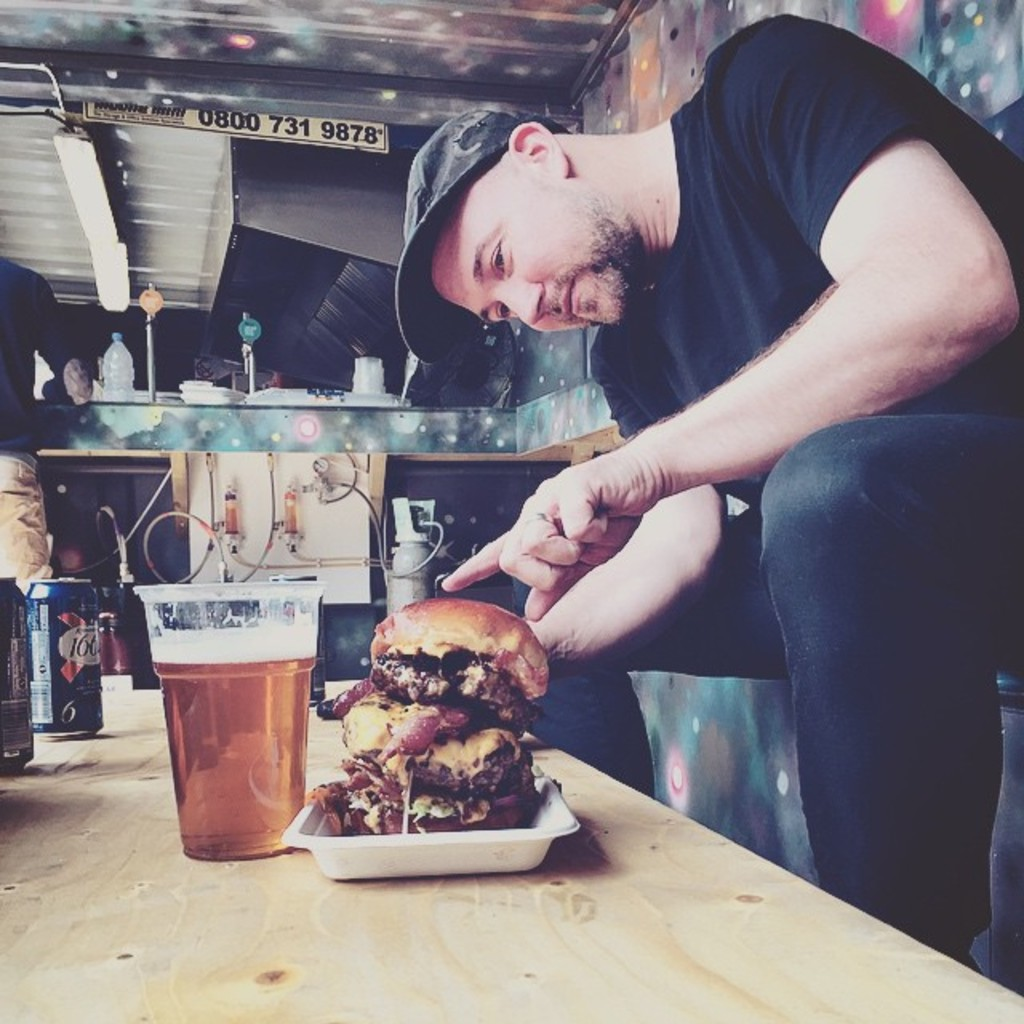Hamburger: (304, 600, 555, 836)
